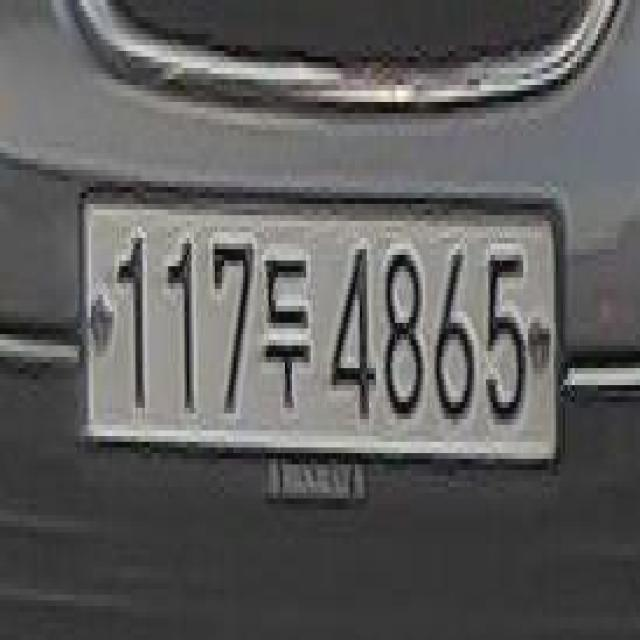illegal_plate: (76, 170, 561, 505)
